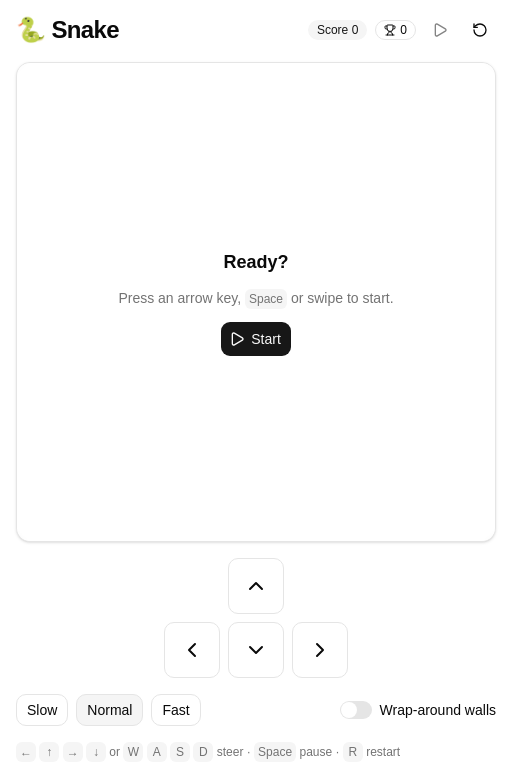
Scenario: playing › ends at the wall, saves the best score and offers another go
This screenshot has width=513, height=782.
Press ArrowUp
Wait 3000 ms
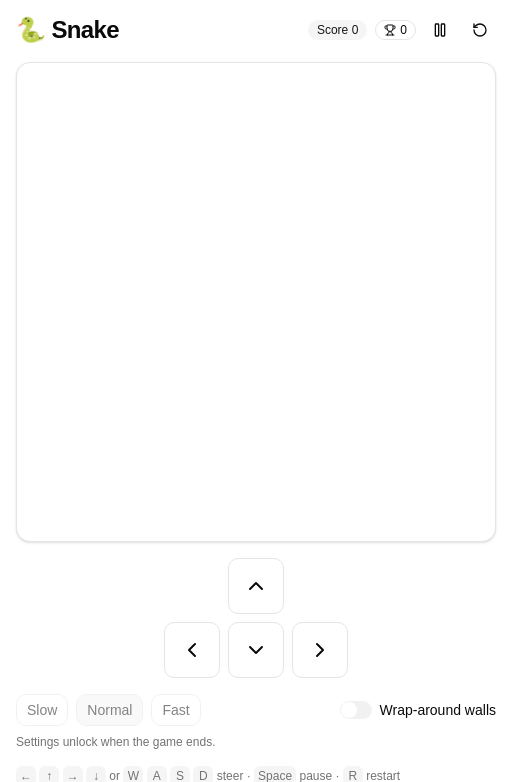
Press ArrowLeft
Wait 2400 ms
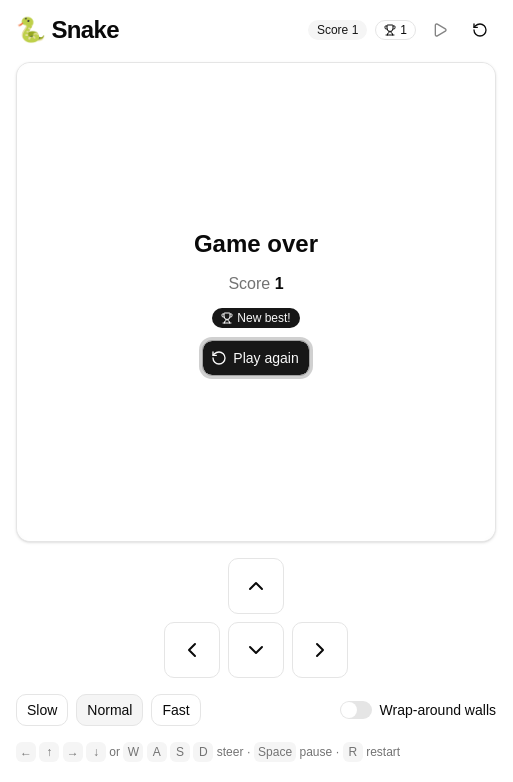
Check: the text "Game over" is shown, box [194, 228, 318, 260]
Check: the text "New best!" is shown, box [212, 308, 300, 328]
Click the button "Play again": click(256, 358) [202, 340, 310, 376]
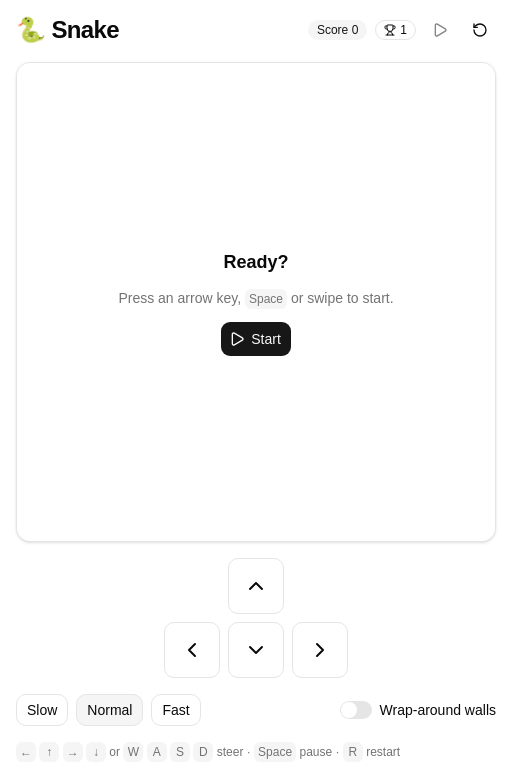
Check: the text "Ready?" is shown, box [224, 248, 288, 276]
Check: the icon labelled "Score 0" is shown, box [308, 20, 367, 40]
